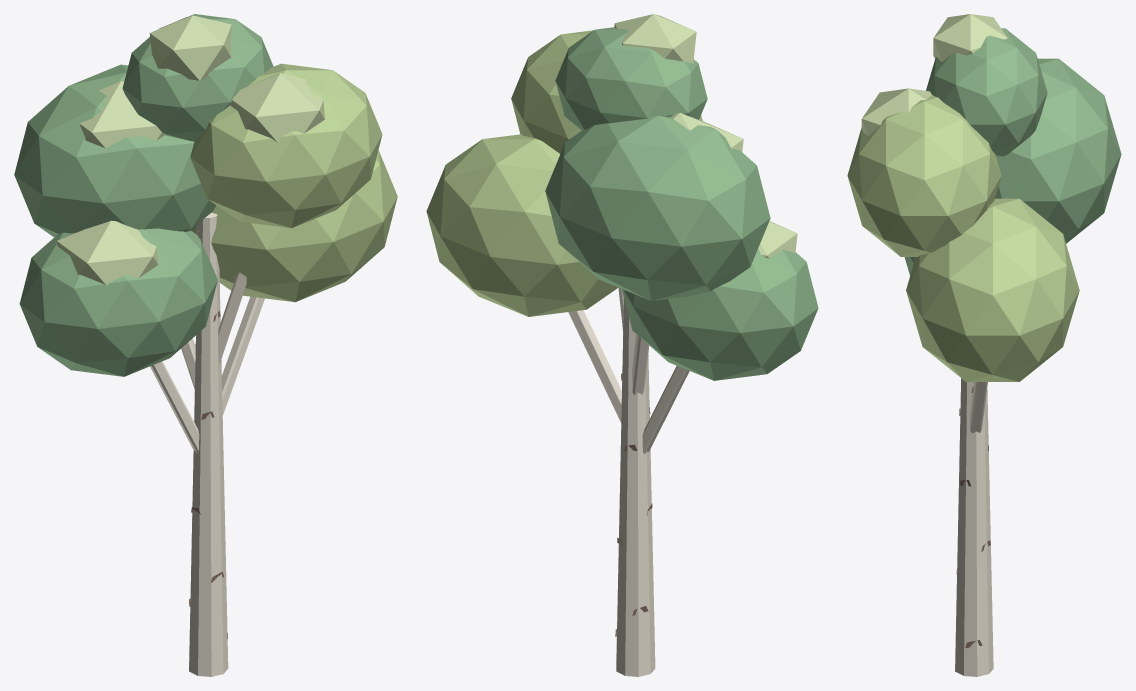
Rendered from world_tree_birch.fbx.
The picture shows the model from 3 angles, left to right: view 1: azimuth 30°, elevation 25°; view 2: azimuth 150°, elevation 25°; view 3: azimuth 270°, elevation 25°; orthographic projection.
Parts seen in each view (by area): view 1: world_tree_birch_mesh; view 2: world_tree_birch_mesh; view 3: world_tree_birch_mesh.
Part boxes in pixels (bbox=[...]): world_tree_birch_mesh: bbox=[14, 14, 397, 676]; world_tree_birch_mesh: bbox=[426, 14, 818, 676]; world_tree_birch_mesh: bbox=[847, 14, 1121, 676].
Size of the model in its own units: 2.56 by 4.49 by 1.72.
